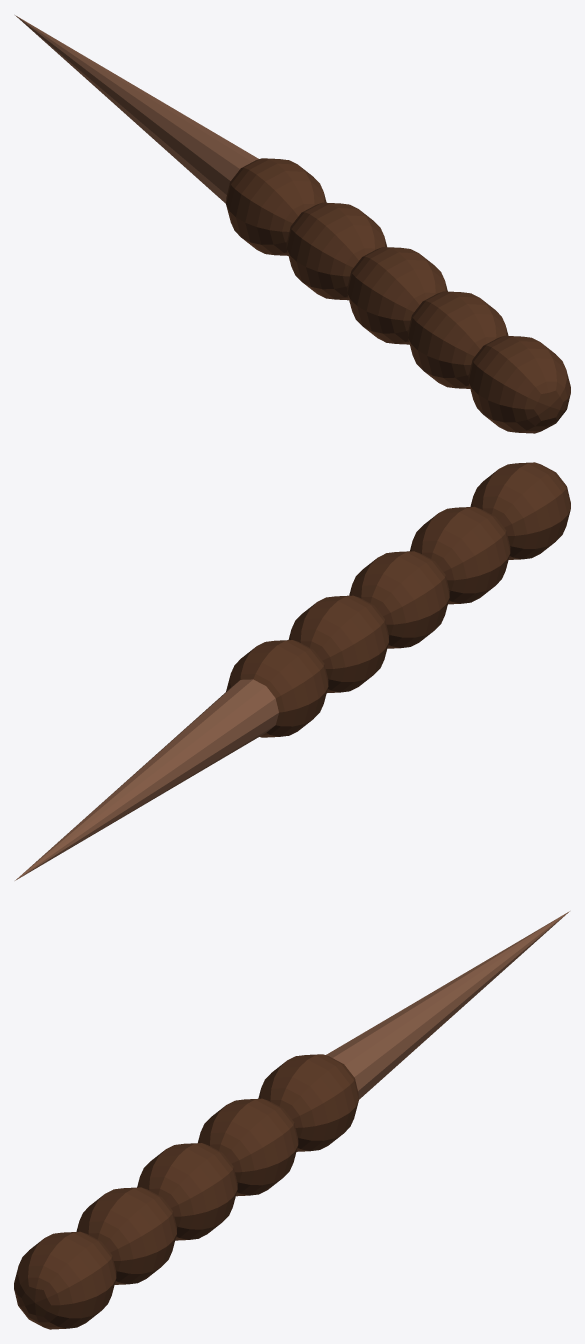
File: Wand 12.glb
3 renders of one model, top to bottom at view 1: azimuth 30°, elevation 25°; view 2: azimuth 150°, elevation 25°; view 3: azimuth 330°, elevation 25°, orthographic.
Parts seen in each view (by area): view 1: GeneratedWand; view 2: GeneratedWand; view 3: GeneratedWand.
Part boxes in pixels (x1,y1,x2,y2): GeneratedWand: (15, 15, 570, 433); GeneratedWand: (15, 462, 570, 880); GeneratedWand: (14, 911, 569, 1329).
Bounding box in the file's own units: 0.0447 × 0.0449 × 0.5015.
